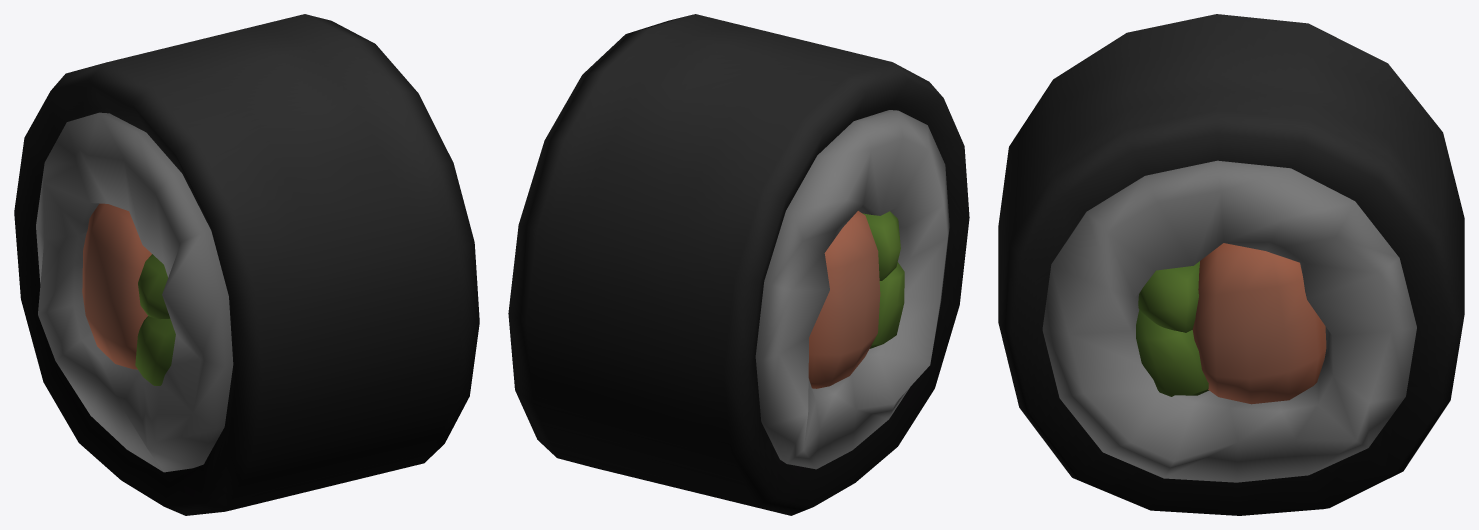
Rendered from sushi.glb.
3 renders of one model, left to right at view 1: azimuth 30°, elevation 25°; view 2: azimuth 150°, elevation 25°; view 3: azimuth 270°, elevation 25°, orthographic.
Visible parts, largest first — view 1: geometry_0; view 2: geometry_0; view 3: geometry_0.
Boxes of the visible parts, x1,y1,x2,y2 form: geometry_0: (14,14,479,515); geometry_0: (508,14,969,515); geometry_0: (998,14,1464,515).
Bounding box in the file's own units: 0.0462 × 0.062 × 0.0647.
1 material, 1 textured.
